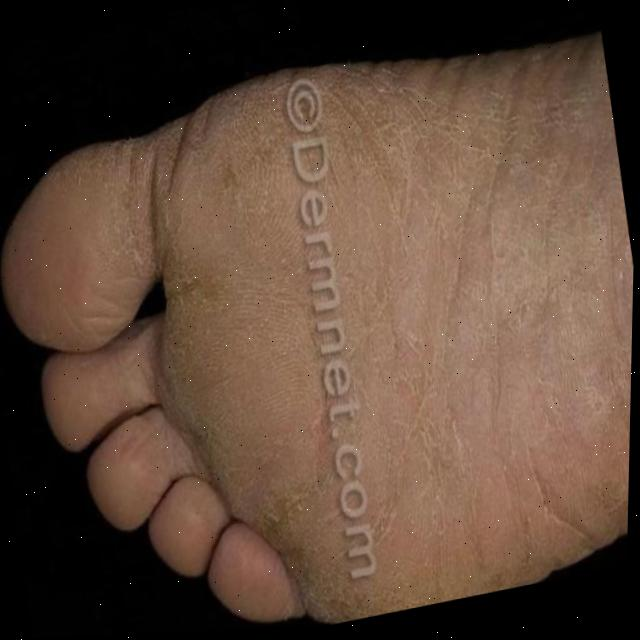Eczema: (72, 64, 580, 610)
